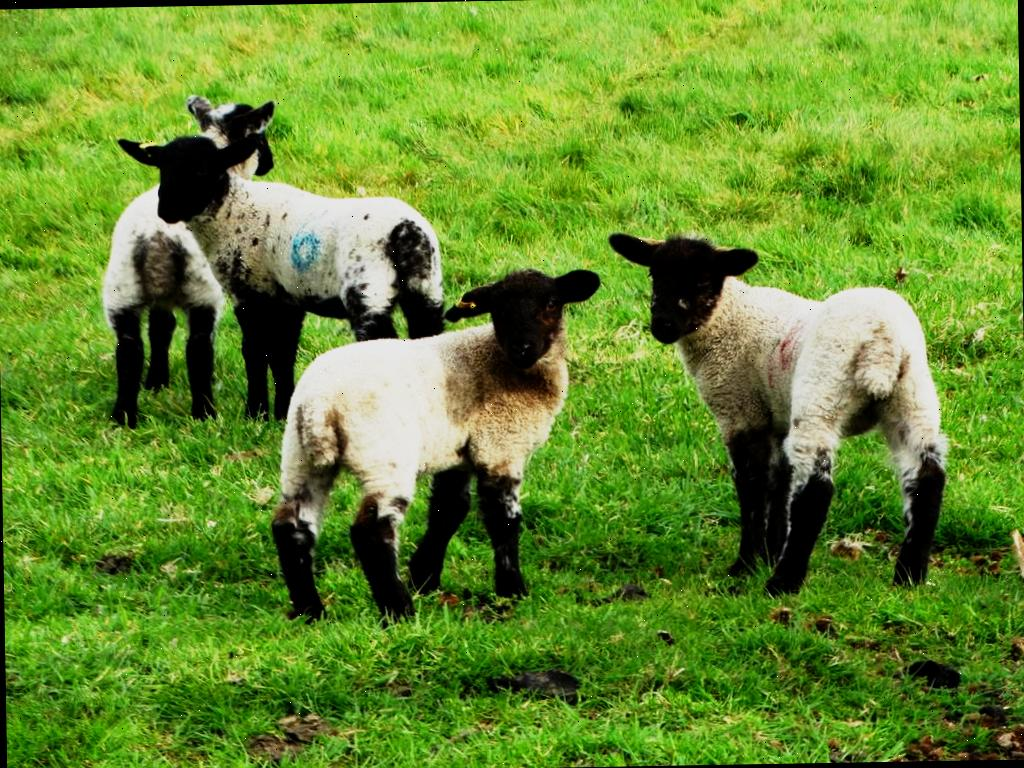Sheep: (608, 223, 949, 596), (266, 268, 606, 628), (112, 130, 444, 424), (98, 91, 279, 430)
